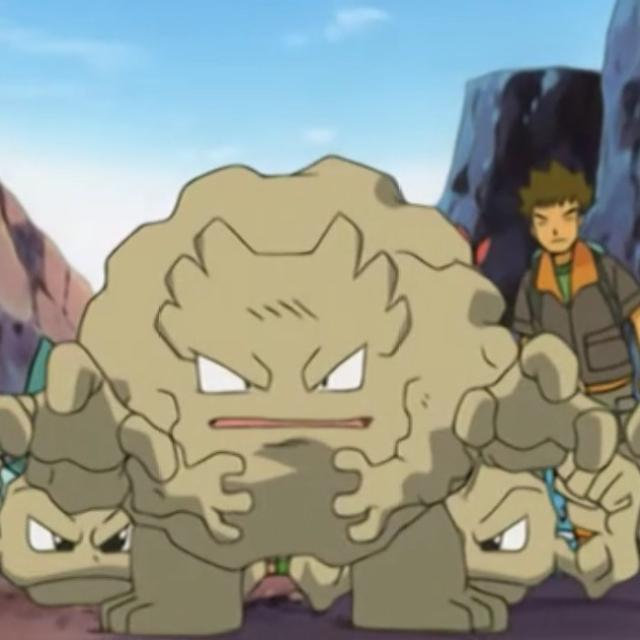Graveler: (92, 150, 518, 557)
